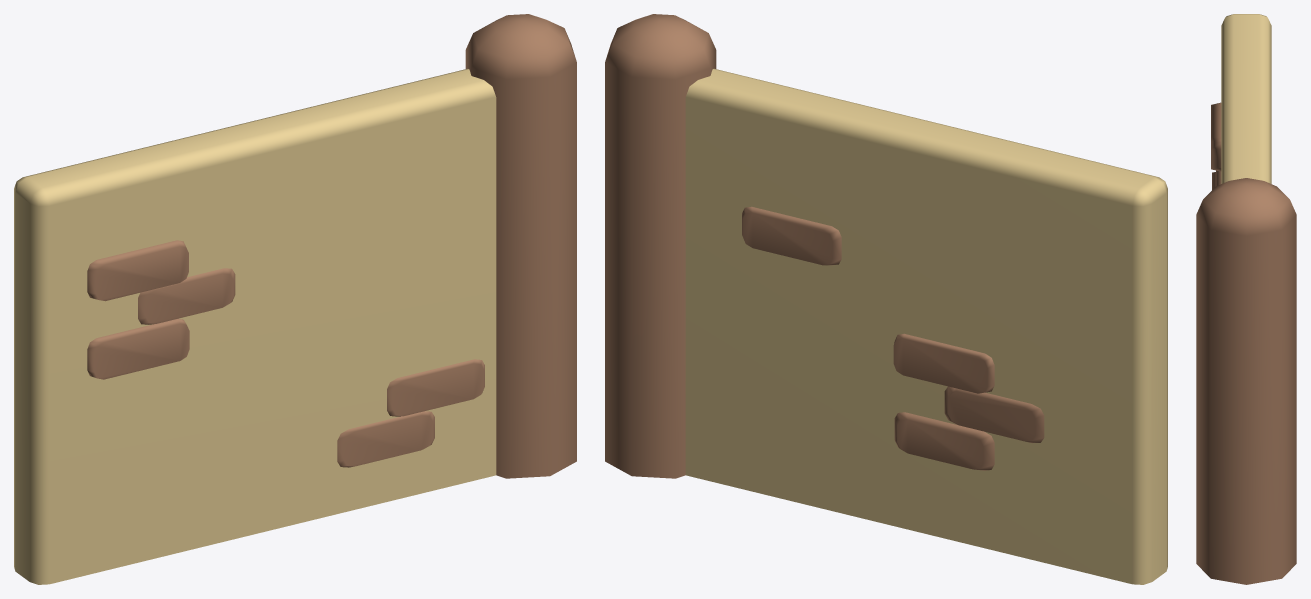
File: PR_FinishLine_02.fbx
3 renders of one model, left to right at view 1: azimuth 30°, elevation 25°; view 2: azimuth 150°, elevation 25°; view 3: azimuth 270°, elevation 25°, orthographic. The views are drawn at different scales.
Visible parts, largest first — view 1: pCube4, pCylinder1, pCube8; view 2: pCube4, pCylinder1, pCube8; view 3: pCylinder1, pCube4, pCube8.
Part boxes in pixels (box(x1,y1,x2,y2)): pCube4: box(14, 68, 496, 584); pCylinder1: box(465, 14, 576, 478); pCube8: box(87, 240, 484, 467); pCube4: box(685, 68, 1167, 584); pCylinder1: box(605, 14, 716, 478); pCube8: box(742, 206, 1044, 470); pCylinder1: box(1196, 178, 1296, 584); pCube4: box(1221, 14, 1271, 183); pCube8: box(1211, 102, 1221, 189).
Size of the model in its own units: 220 by 166 by 40.
